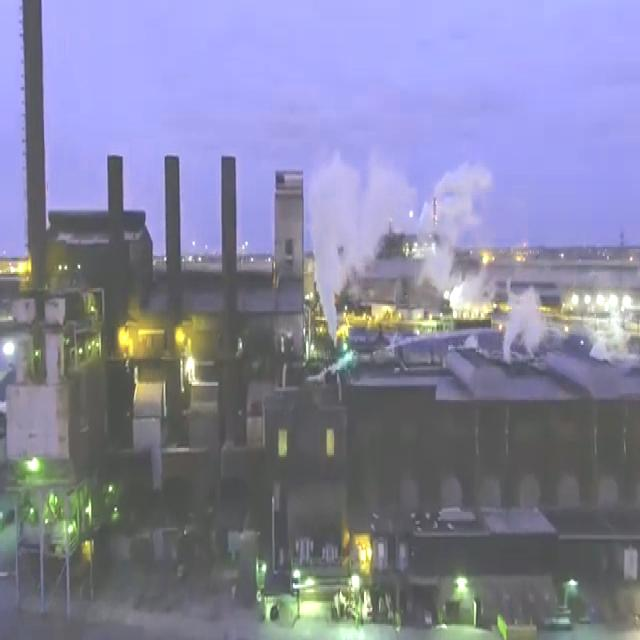smoke: (312, 155, 409, 325), (425, 162, 495, 320), (504, 281, 565, 361)
